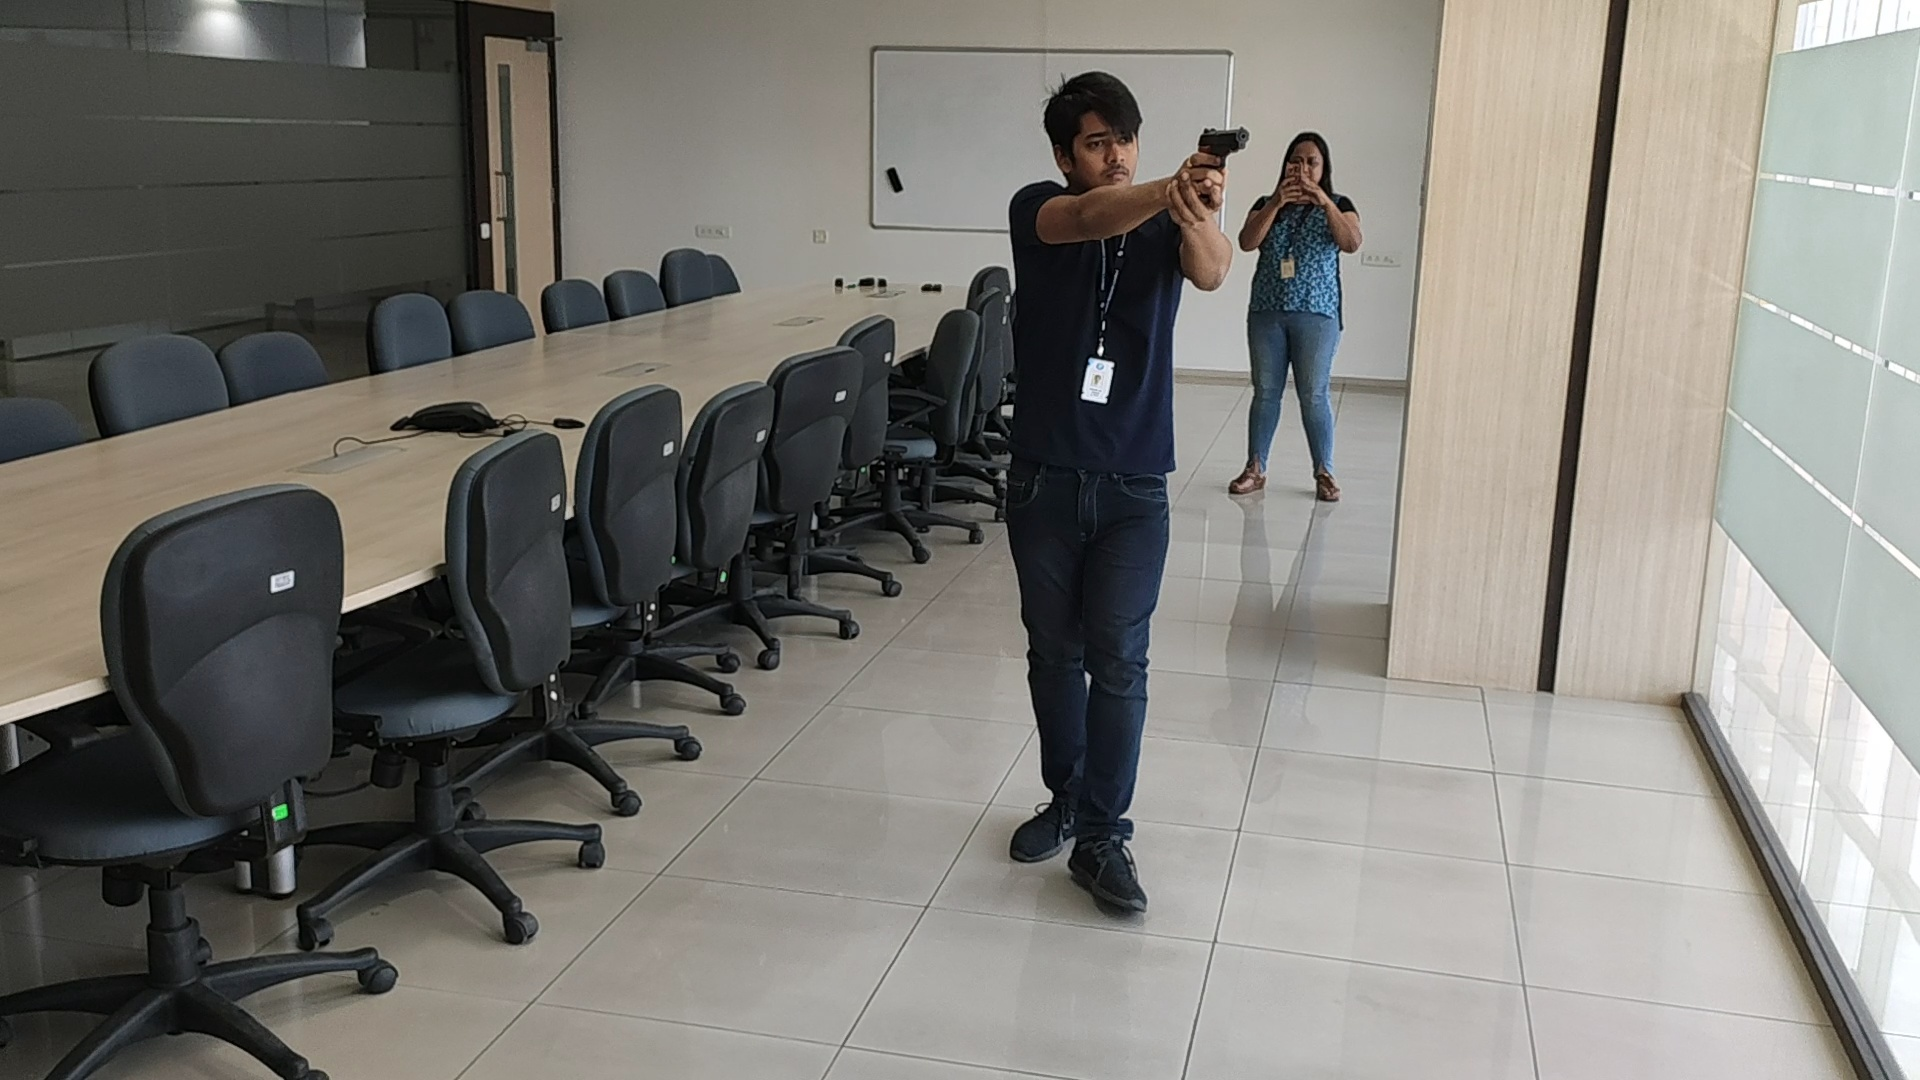gun: (1197, 127, 1249, 164)
